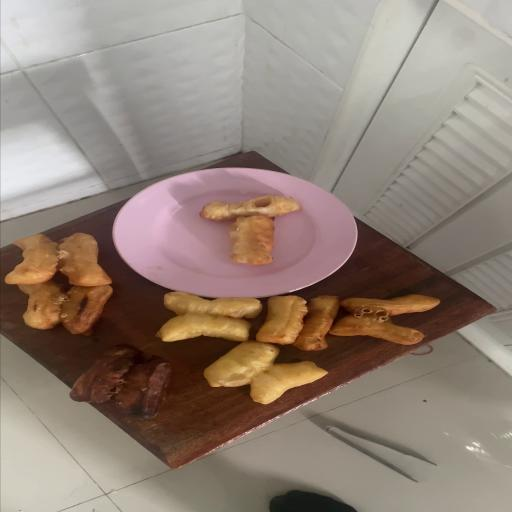street_burnt_defect: (72, 345, 170, 417), (18, 282, 112, 333)
street_golden_good: (158, 292, 325, 404)
